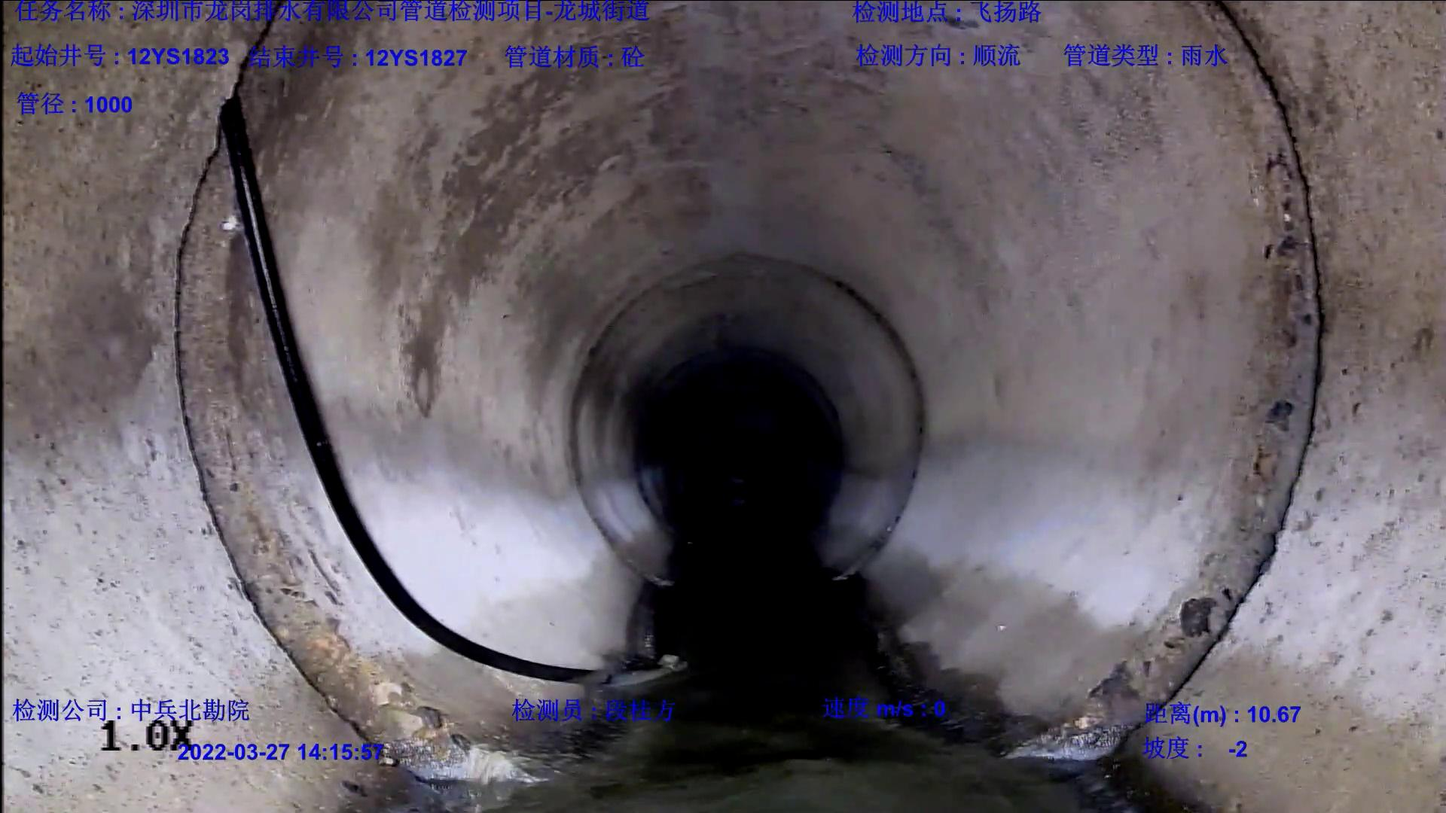CKTJ: (166, 0, 559, 796), (997, 2, 1330, 770)
YWCR: (221, 94, 676, 694)
